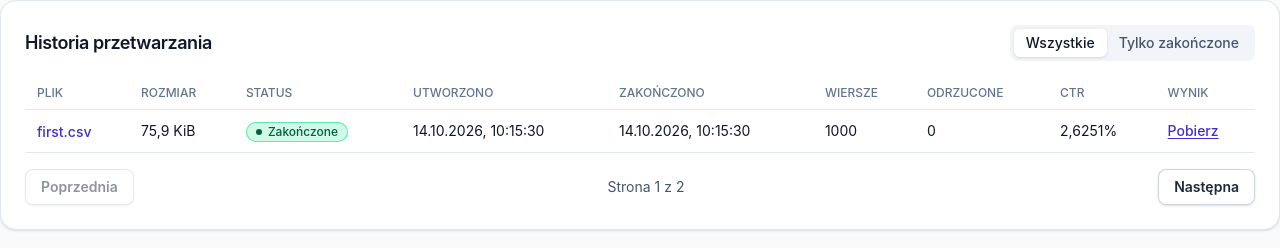
Scenario: JobHistory › moves between pages
The width and height of the screenshot is (1280, 248).
Check: the button "first.csv" is shown, box [37,122,92,142]
Click the button "Następna": (1207, 187) [1158,169,1255,205]
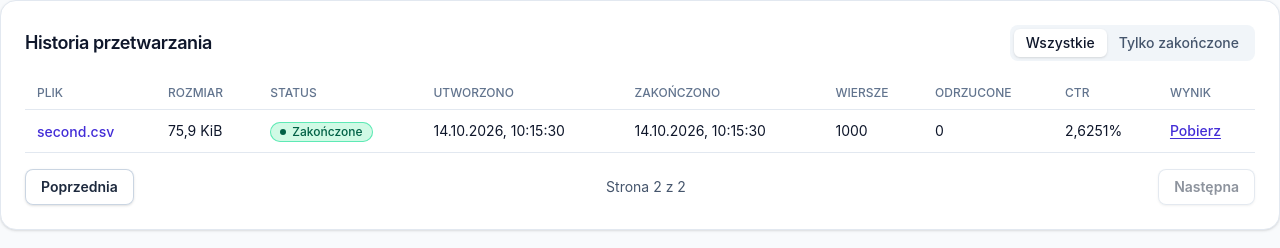
Check: the button "second.csv" is shown, box [37,122,114,142]
Check: the text "Strona 2 z 2" is shown, box [606,177,686,197]
